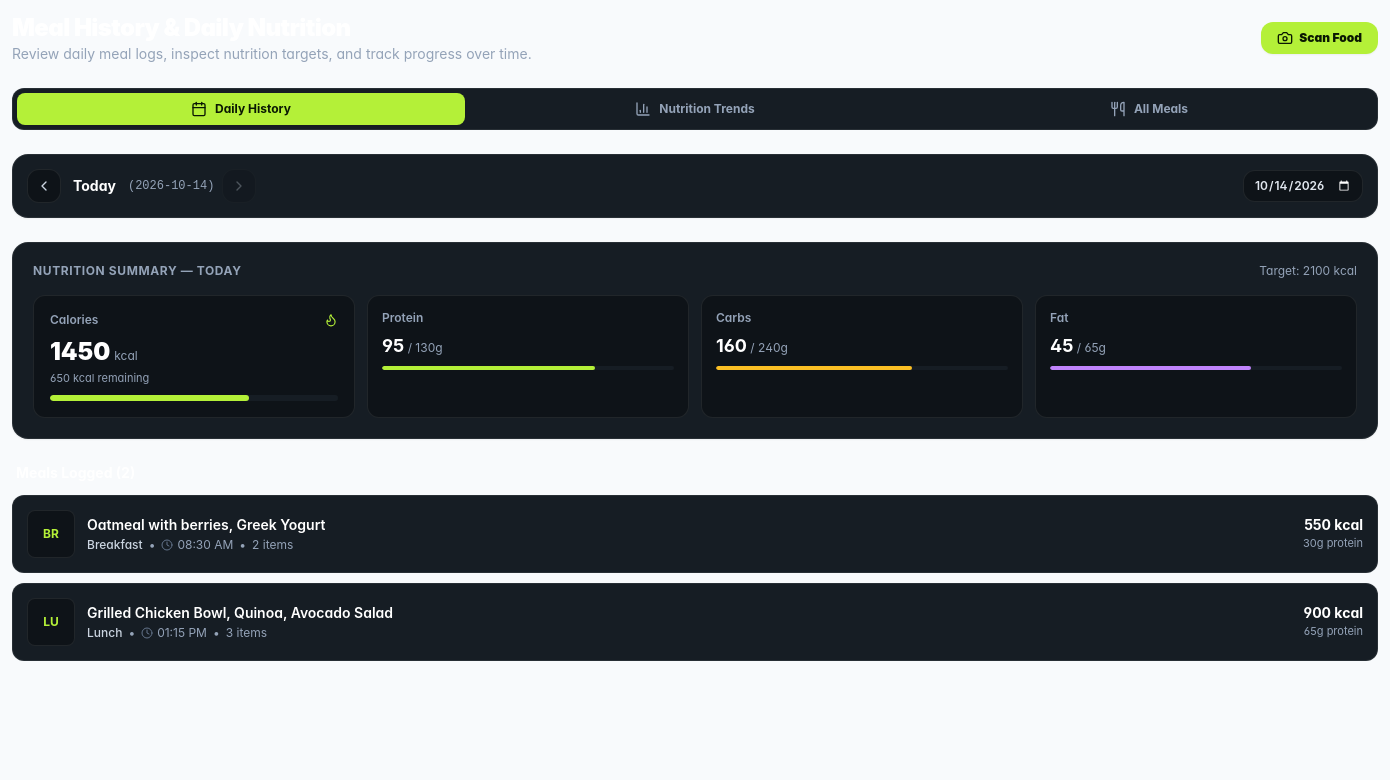
it: MealHistory Component - Date Navigation, Daily Totals & Historical Trends › 9. Switches to All Meals tab and renders paginated meal records
# Switch to All Meals tab
Click the button "All Meals".
click(1149, 109)  # box left=925, top=93, right=1373, bottom=125
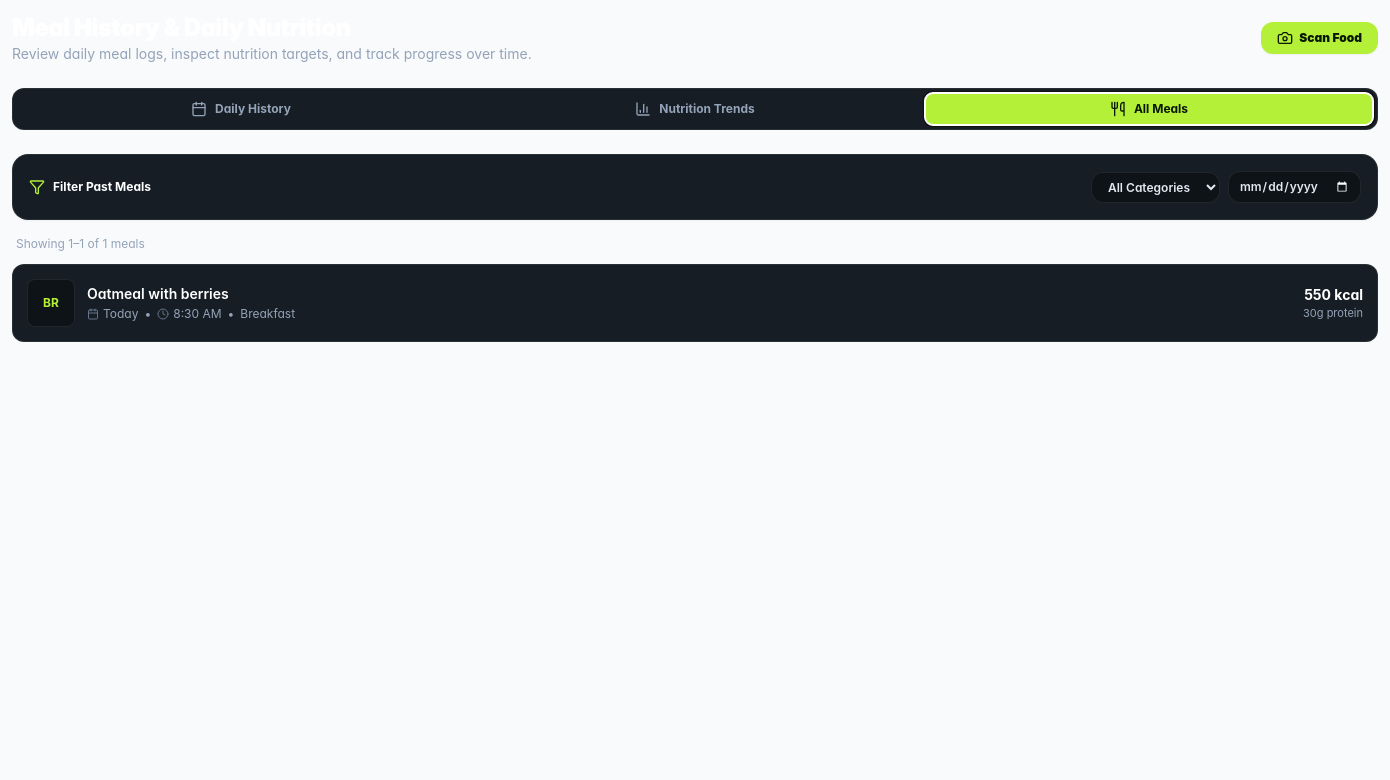
Check: the text "Filter Past Meals" is shown, box left=53, top=179, right=151, bottom=195
Check: the text "Showing 1–1 of 1 meals" is shown, box left=16, top=236, right=145, bottom=252
